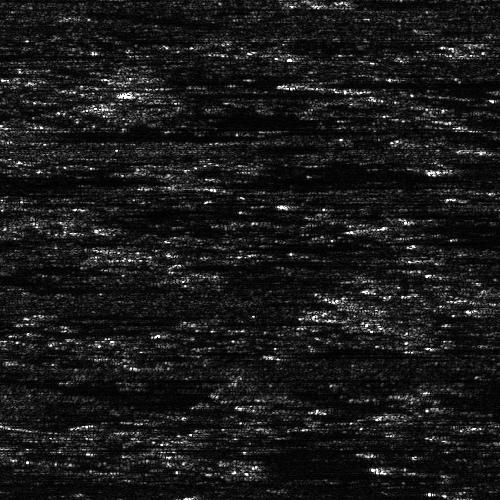rock: (410, 167, 473, 174), (129, 88, 170, 97), (0, 130, 39, 139), (172, 180, 213, 187)
shadow: (0, 130, 195, 139), (193, 180, 404, 187), (150, 88, 297, 97), (0, 285, 117, 290), (0, 51, 69, 58), (442, 167, 500, 174), (0, 185, 37, 190)
